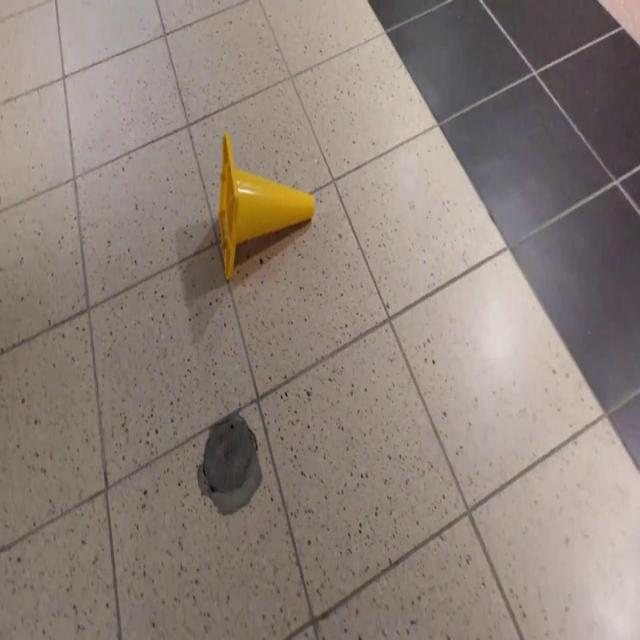frc_cone: (219, 137, 317, 281)
